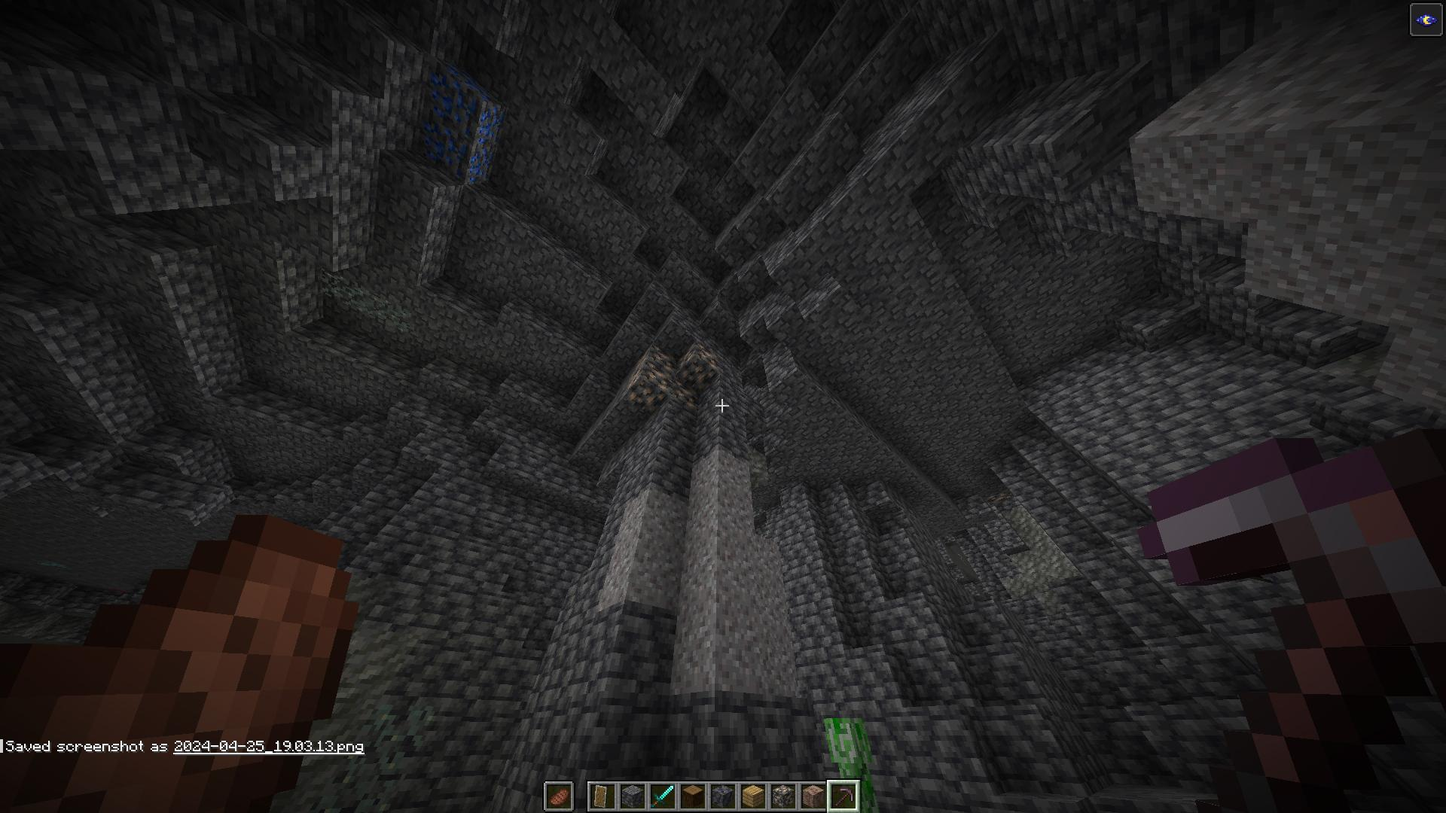iron ore: (625, 367, 671, 411), (675, 347, 719, 388), (632, 343, 676, 371), (667, 377, 697, 406)
